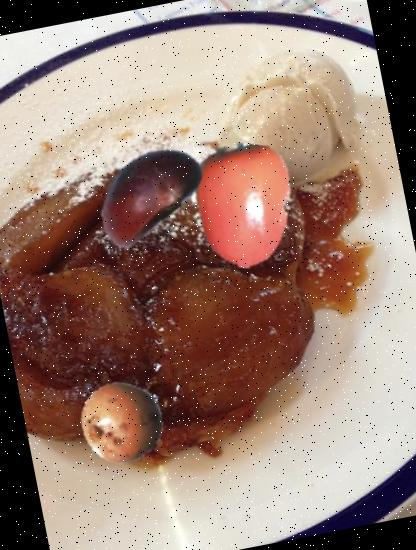Chestnut: (75, 121, 216, 262)
Granadilla: (74, 373, 172, 471)
Kaki: (167, 132, 314, 278)
